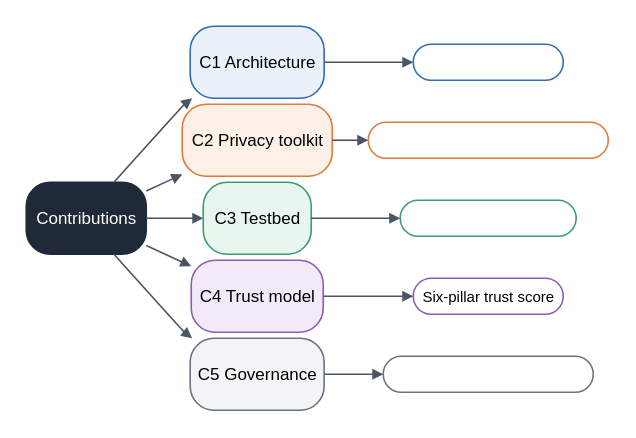
Some shapes in this 636 by 438 pixel diagram are drawn without their labels. Here are the shapes that lost their labels. From the top down, the box of each, then its label:
(412, 43, 563, 80): Seven-layer design
(367, 121, 608, 158): DP + SecAgg + RDP accounting
(399, 199, 576, 236): Open code and results
(382, 355, 593, 392): Requirement-to-control map
